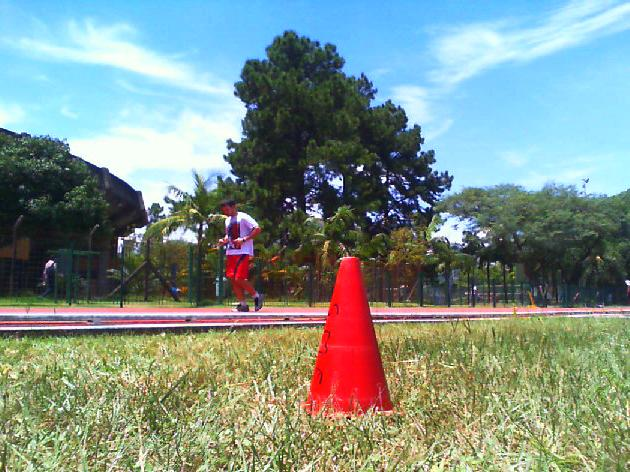0 cone: (302, 257, 398, 417)
